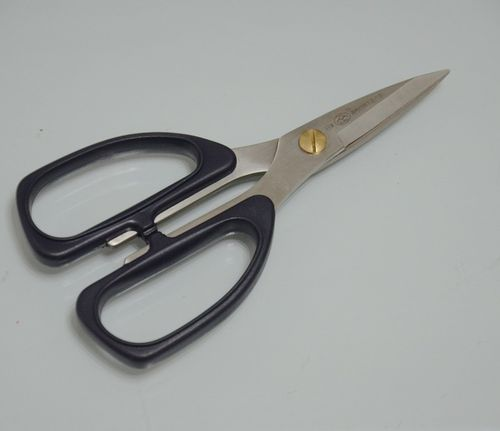scissor: (16, 68, 455, 367)
